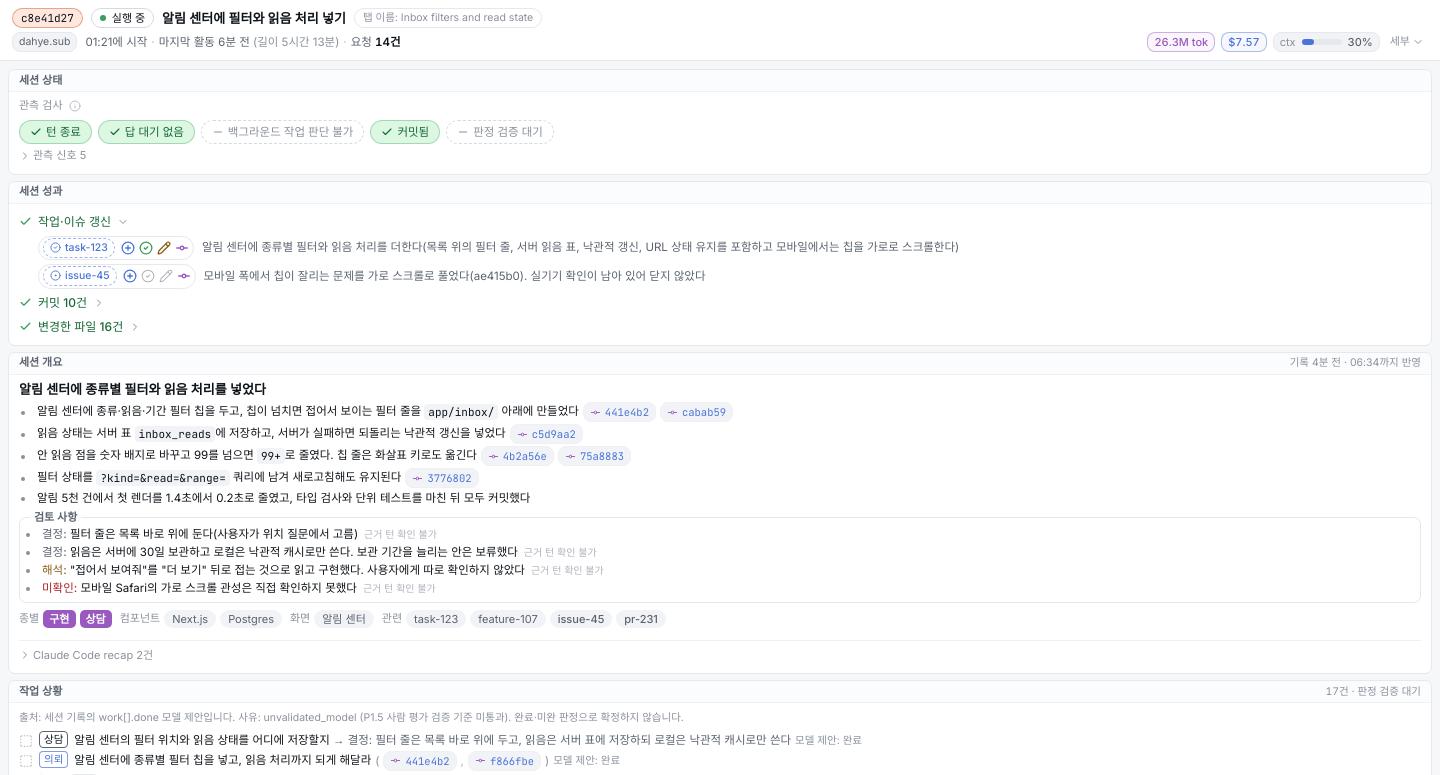
Test: 세션 상태의 관측 신호 › "관측 신호 5"를 누르면 다섯 문장이 보인다
Click the button "관측 신호 5": [53, 156] box [19, 148, 86, 164]
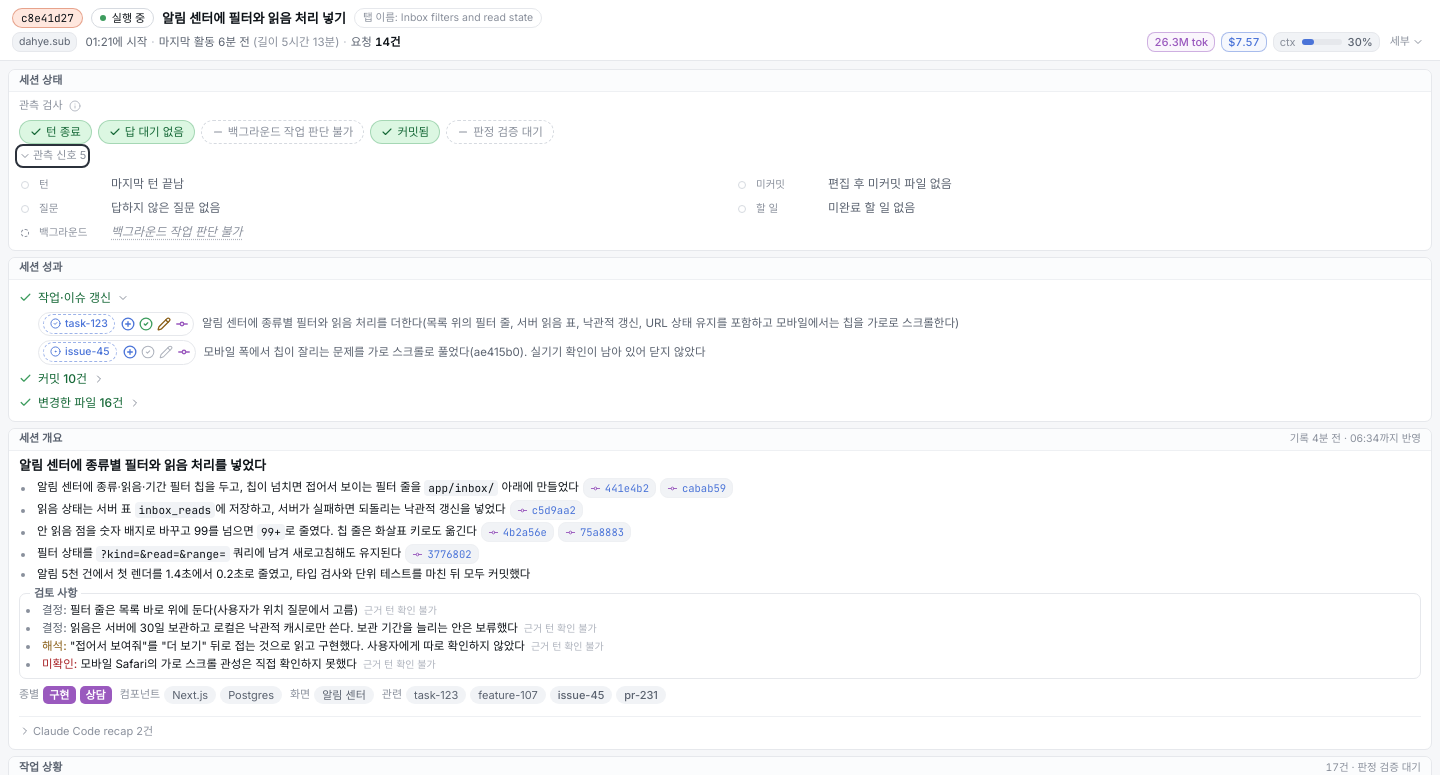
Expected: the list named "관측 신호" shows "마지막 턴 끝남", [111, 176, 184, 190]
Expected: the list named "관측 신호" shows "백그라운드 작업 판단 불가", [111, 222, 243, 242]
